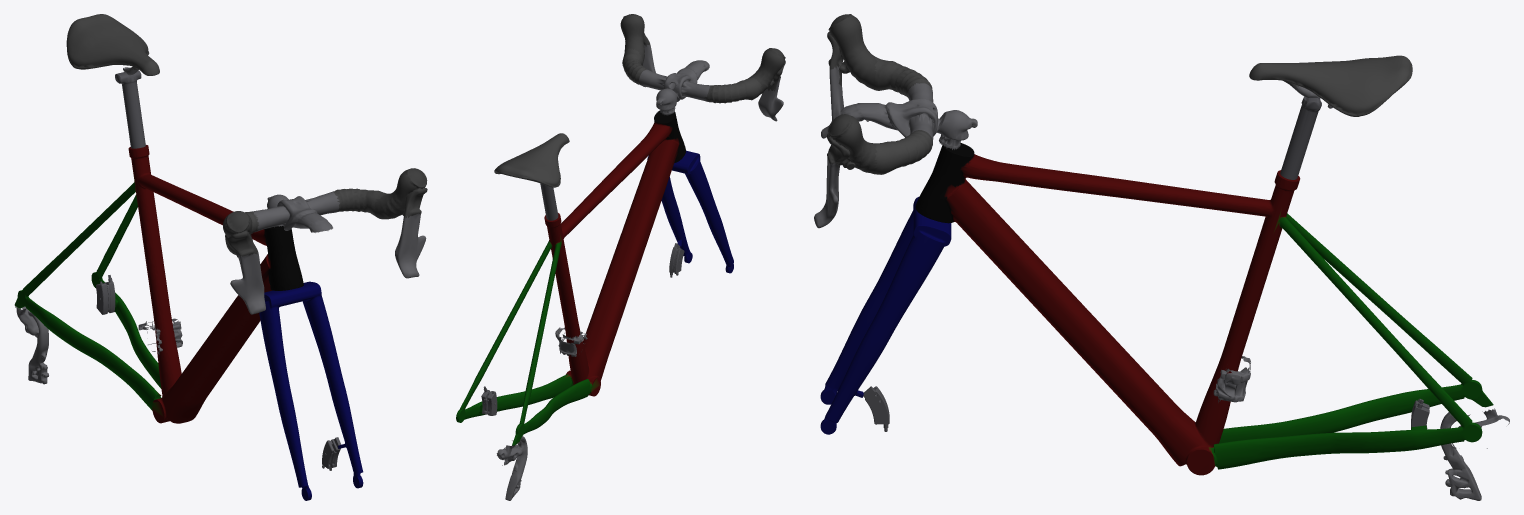
File: look785xs_lod0.glb
3 renders of one model, left to right at view 1: azimuth 30°, elevation 25°; view 2: azimuth 150°, elevation 25°; view 3: azimuth 270°, elevation 25°, orthographic. The views are drawn at different scales.
Parts seen in each view (by area): view 1: frame, cockpit, fork, saddle, seatpost, etrier_arriere, etrier_avant; view 2: frame, cockpit, fork, saddle, seatpost, etrier_arriere; view 3: frame, cockpit, fork, saddle, seatpost.
Part boxes in pixels (x1,y1,x2,y2): frame: (14,145,303,423); cockpit: (223,168,427,314); fork: (259,281,363,500); saddle: (66,14,159,75); seatpost: (115,70,145,148); etrier_arriere: (96,275,115,314); etrier_avant: (322,437,340,470); frame: (456,110,685,500); cockpit: (620,14,785,121); fork: (647,150,733,273); saddle: (494,133,569,187); seatpost: (540,183,558,220); etrier_arriere: (481,386,497,415); frame: (915,142,1509,500); cockpit: (814,14,977,228); fork: (820,197,951,434); saddle: (1249,55,1412,116); seatpost: (1280,96,1321,179).
Bounding box in the file's own units: 0.415 × 0.7532 × 1.05.
